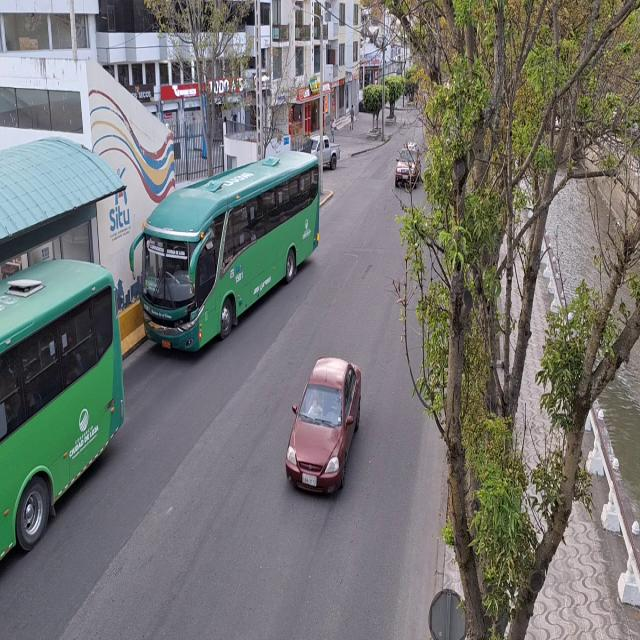BUS: (130, 158, 316, 356), (0, 267, 106, 571)
SED: (284, 354, 363, 497)
